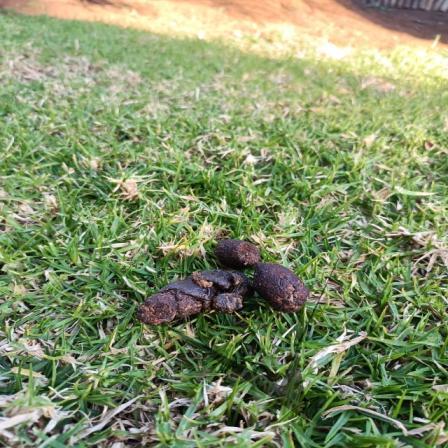dog-poop: (141, 233, 308, 339)
